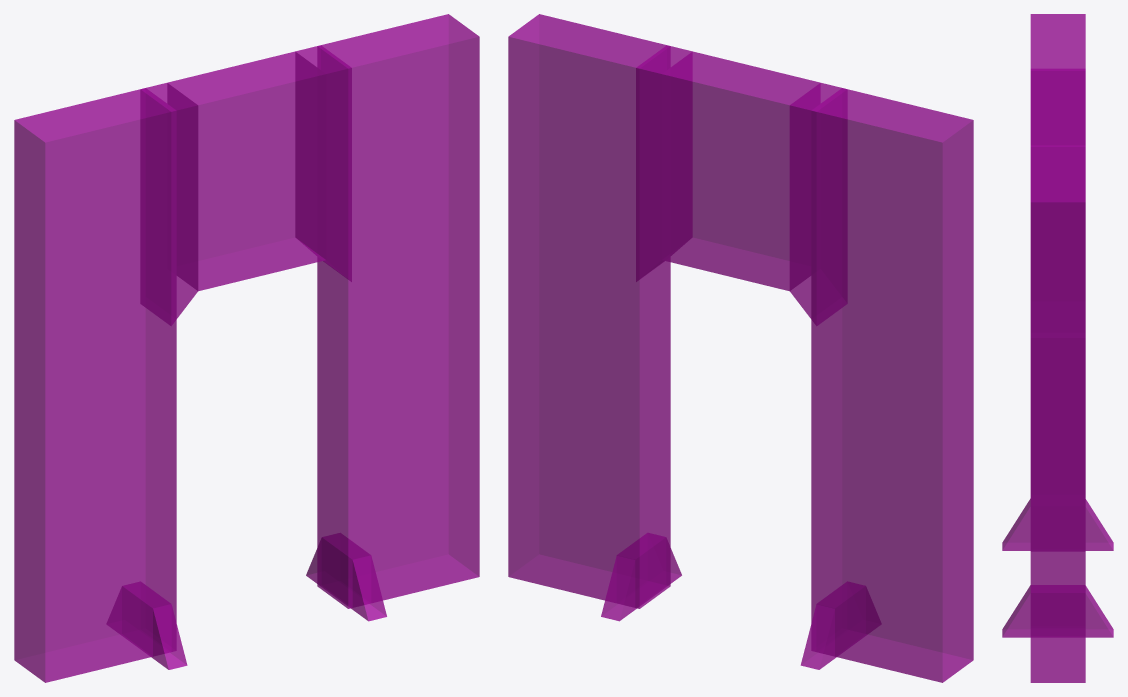
Rendered from SM_Bld_Wall_Door_01_Collision.fbx.
3 renders of one model, left to right at view 1: azimuth 30°, elevation 25°; view 2: azimuth 150°, elevation 25°; view 3: azimuth 270°, elevation 25°, orthographic. The views are drawn at different scales.
Visible parts, largest first — view 1: SM_Bld_Wall_Door_01_Collision; view 2: SM_Bld_Wall_Door_01_Collision; view 3: SM_Bld_Wall_Door_01_Collision.
Part boxes in pixels (x1=…): SM_Bld_Wall_Door_01_Collision: x1=14, y1=14, x2=479, y2=682; SM_Bld_Wall_Door_01_Collision: x1=508, y1=14, x2=973, y2=682; SM_Bld_Wall_Door_01_Collision: x1=1002, y1=14, x2=1113, y2=682.
Bounding box in the file's own units: 254 × 303 × 63.46.
